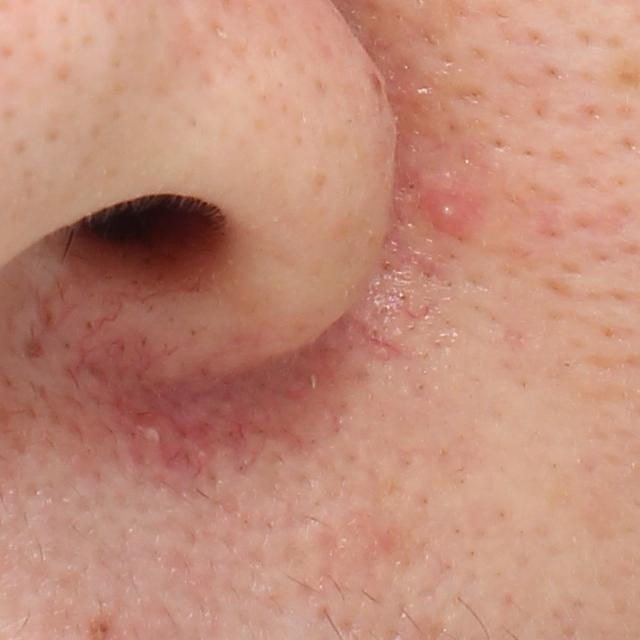pustule: (434, 196, 468, 230)
